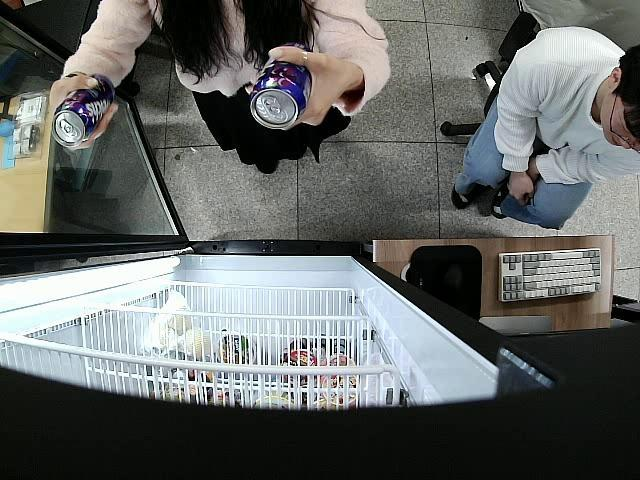14_welchsGrape: (250, 44, 312, 131), (53, 74, 116, 150)
